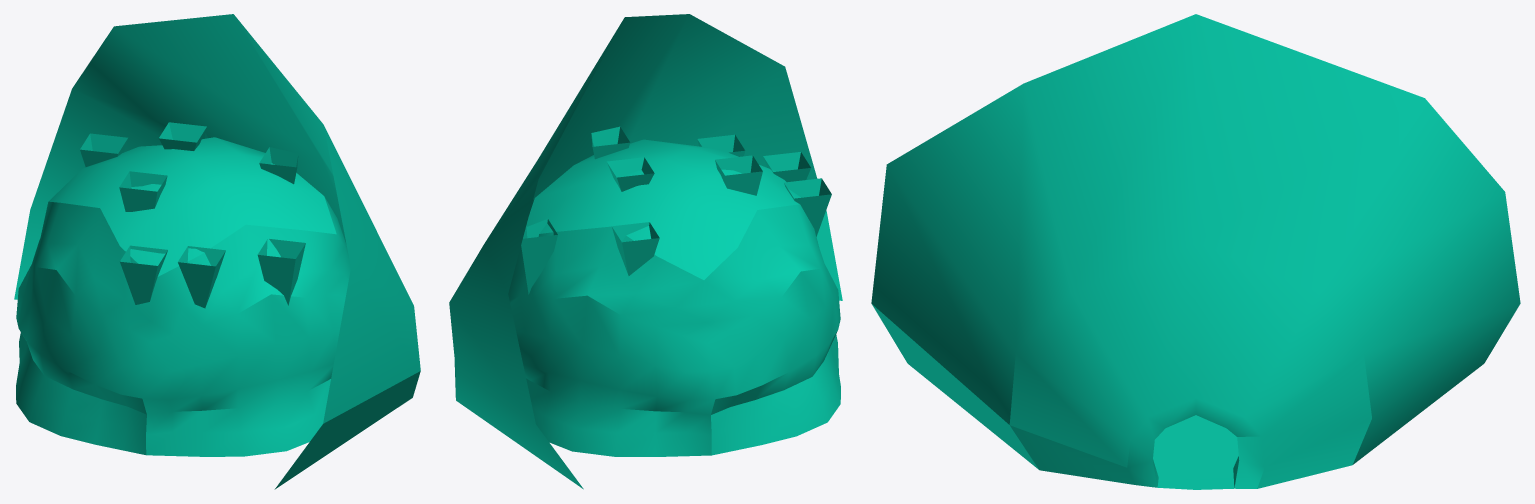
The model's file is cave.fbx.
The picture shows the model from 3 angles, left to right: view 1: azimuth 30°, elevation 25°; view 2: azimuth 150°, elevation 25°; view 3: azimuth 270°, elevation 25°; orthographic projection. The views are drawn at different scales.
Parts seen in each view (by area): view 1: polySurface18; view 2: polySurface18; view 3: polySurface18.
Part boxes in pixels (x1,y1,x2,y2): polySurface18: [14, 14, 420, 489]; polySurface18: [449, 14, 842, 489]; polySurface18: [871, 14, 1520, 489].
Bounding box in the file's own units: 198 × 193 × 286.
